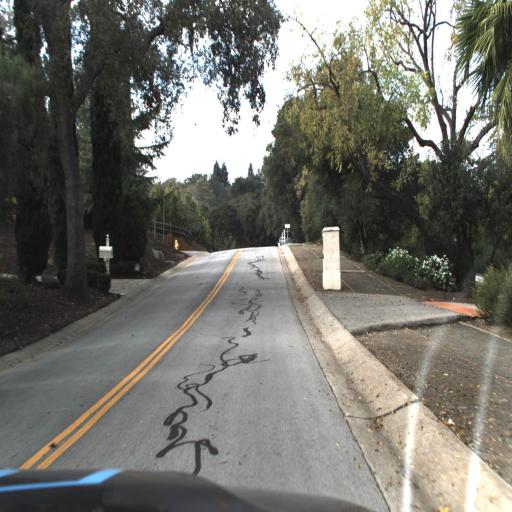car: (276, 228, 298, 246)
